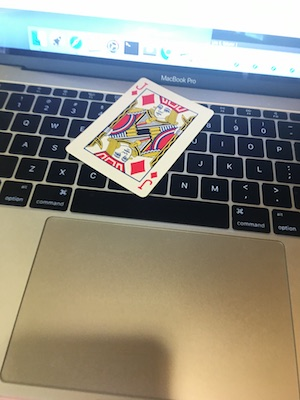JackOfDiamonds: (60, 76, 217, 200)
